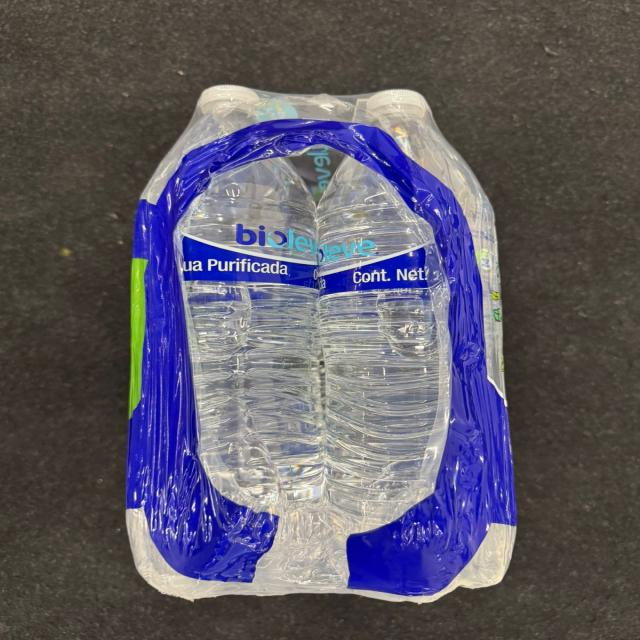Agua Bioleve 1L 6pack: (121, 68, 520, 608)
